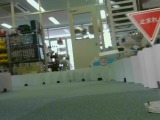stop: (126, 7, 160, 45)
